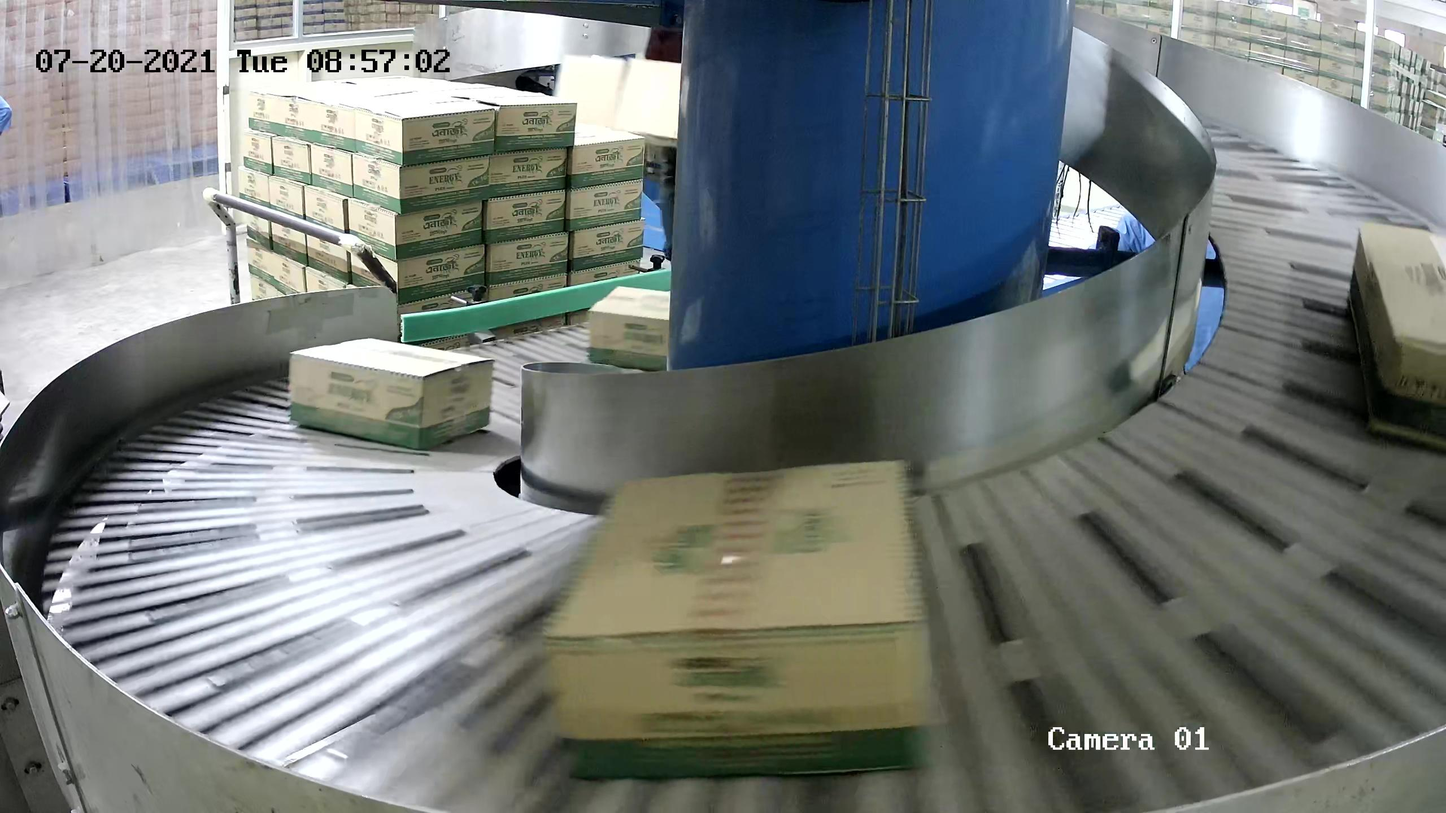Box: (540, 454, 939, 785), (287, 335, 496, 450), (1346, 221, 1446, 455), (587, 284, 670, 371)
